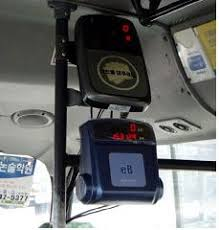terminal: (73, 116, 168, 208)
